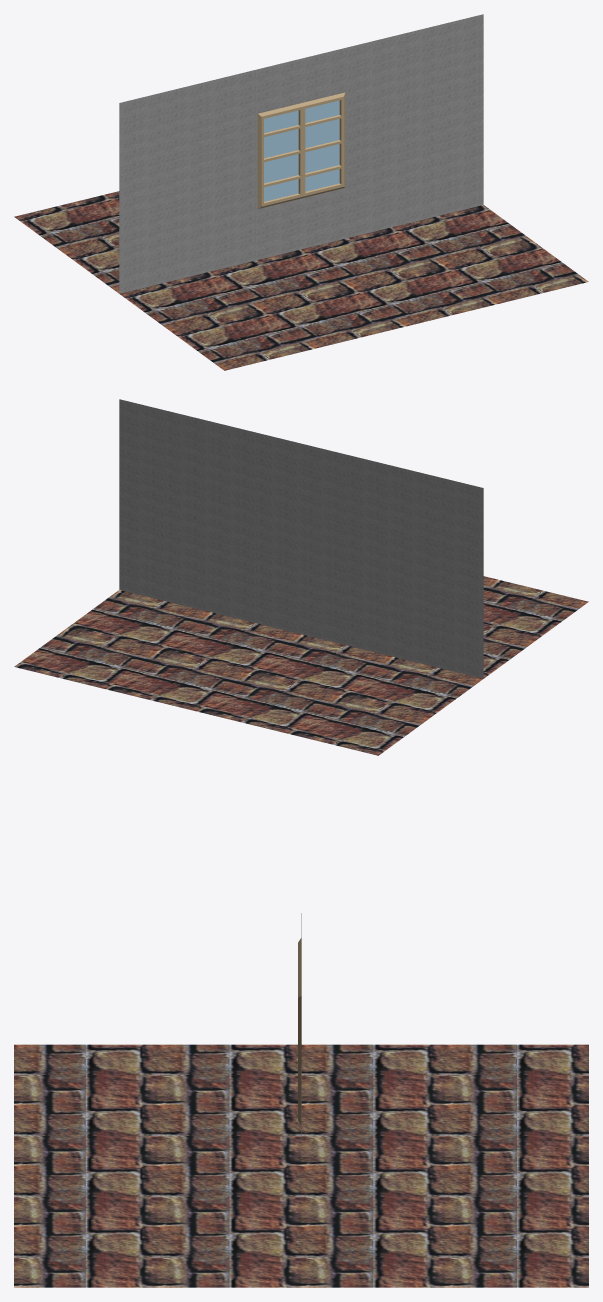
The model's file is window_test.dae.
The picture shows the model from 3 angles, top to bottom: view 1: azimuth 30°, elevation 25°; view 2: azimuth 150°, elevation 25°; view 3: azimuth 270°, elevation 25°; orthographic projection. The views are drawn at different scales.
Visible parts, largest first — view 1: wall, gnd, window; view 2: wall, gnd; view 3: gnd, window.
Boxes of the visible parts, x1,y1,x2,y2 form: wall: (119, 14, 483, 293); gnd: (14, 191, 588, 370); window: (257, 92, 345, 208); wall: (119, 399, 483, 678); gnd: (14, 576, 588, 755); gnd: (14, 1044, 588, 1287); window: (298, 937, 301, 1124).
Size of the model in its own units: 6 by 6 by 3.
Materials: 4 (3 with a texture image).
